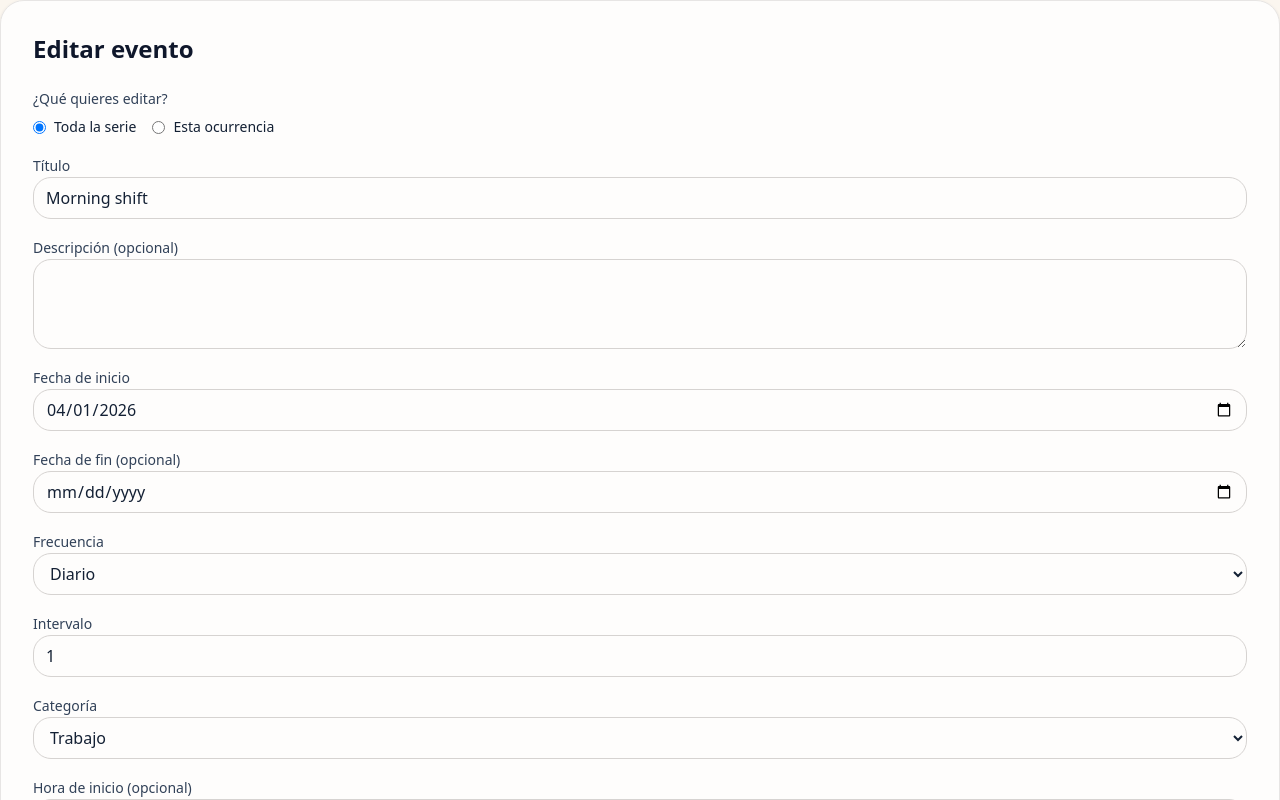
Test: EditEventForm › Recurring event - single occurrence scope › should pre-fill the occurrence date when provided
What coordinates should you click on to do the following:
click the radio button labelled "Esta ocurrencia"
I would click on:
 (159, 127)
Its box is 152,120 -> 165,134.
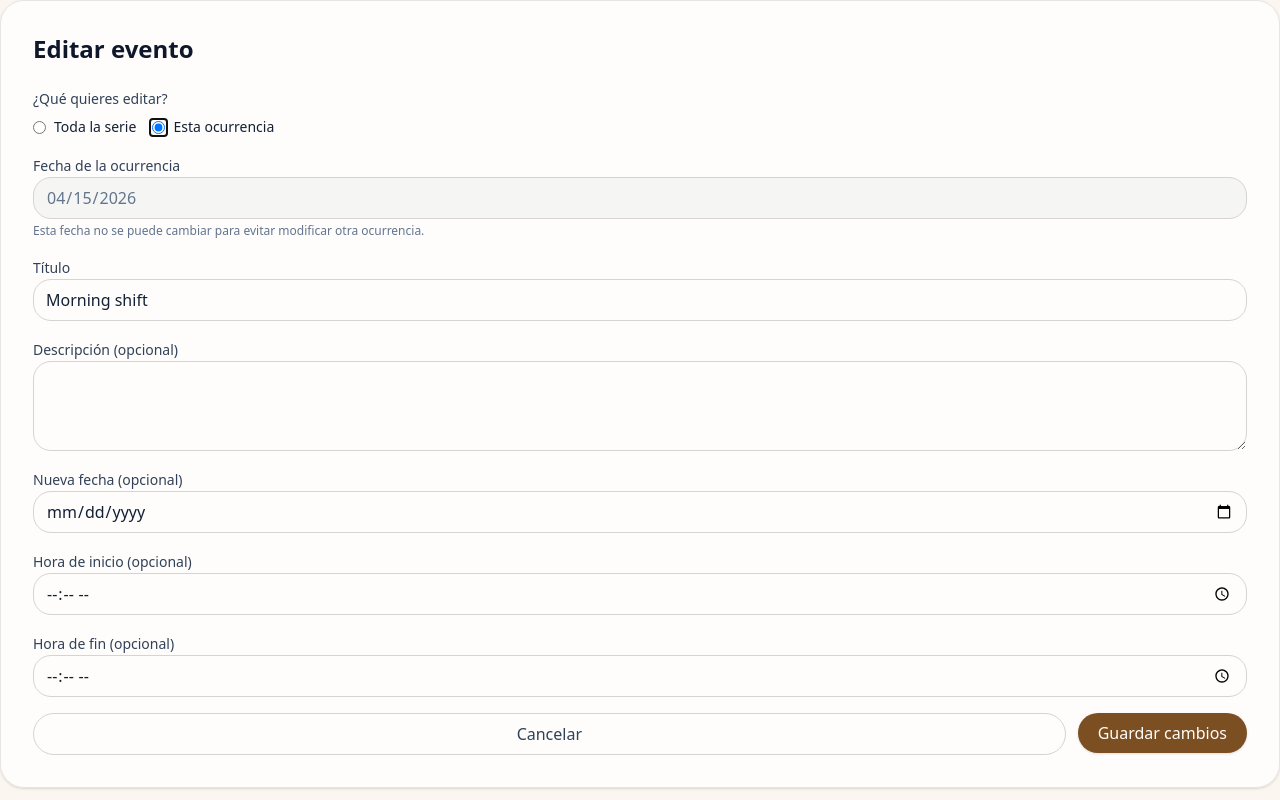
Now the date field labelled "Fecha de la ocurrencia" holds "2026-04-15", box 33,177 -> 1247,219
